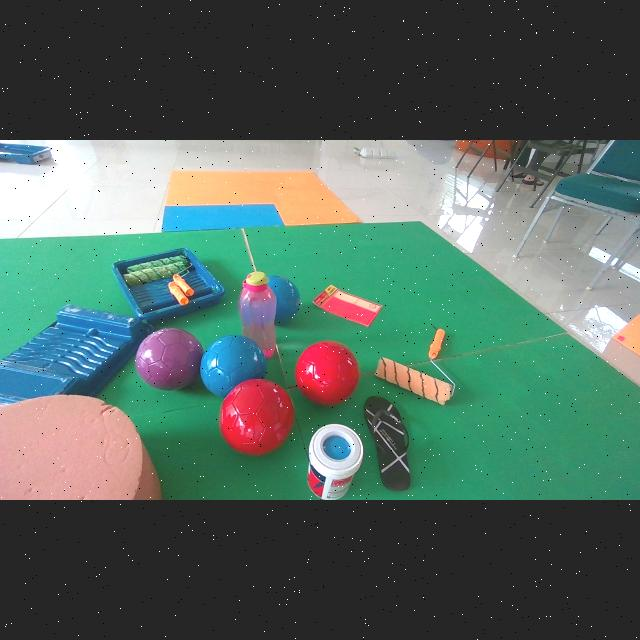B: (200, 336, 265, 397), (268, 275, 301, 326)
P: (136, 328, 204, 390)
R: (219, 378, 294, 455), (296, 341, 360, 405)
